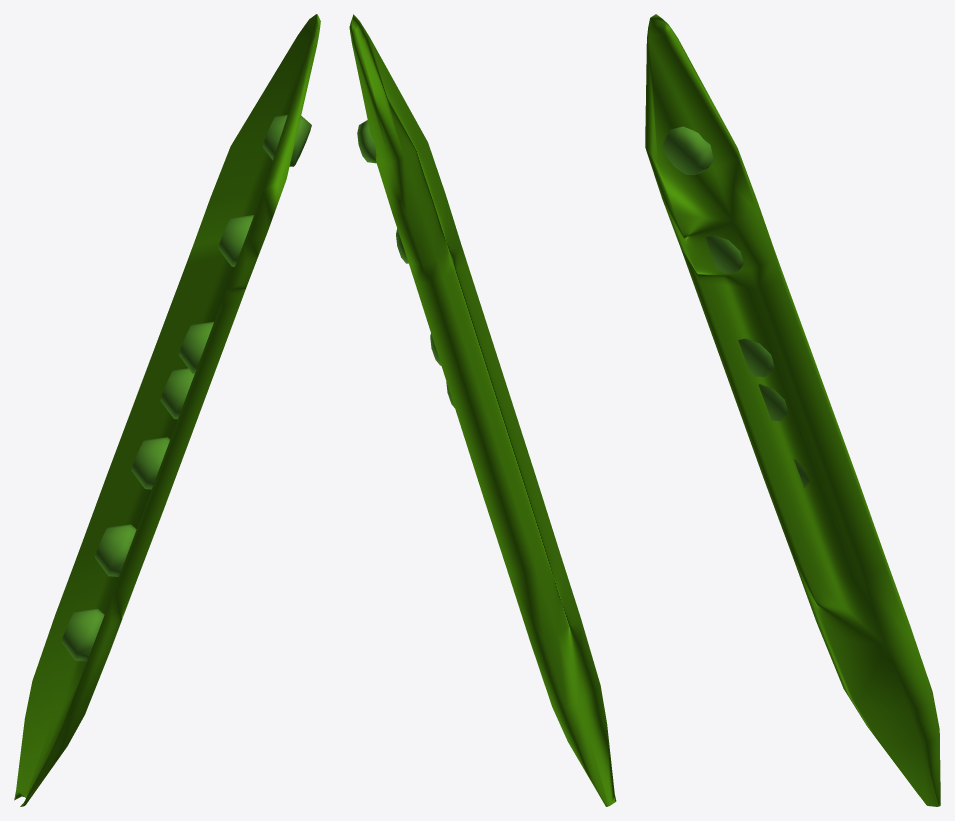
The model's file is pee.fbx.
3 views of the same model, side by side, from view 1: azimuth 30°, elevation 25°; view 2: azimuth 210°, elevation 25°; view 3: azimuth 270°, elevation 25° (orthographic). The views are drawn at different scales.
Parts seen in each view (by area): view 1: pee; view 2: pee; view 3: pee.
Part boxes in pixels (box(x1,y1,x2,y2)): pee: box(14, 14, 320, 806); pee: box(349, 14, 616, 806); pee: box(645, 14, 940, 806).
Size of the model in its own units: 2.13 by 9.65 by 2.97.
